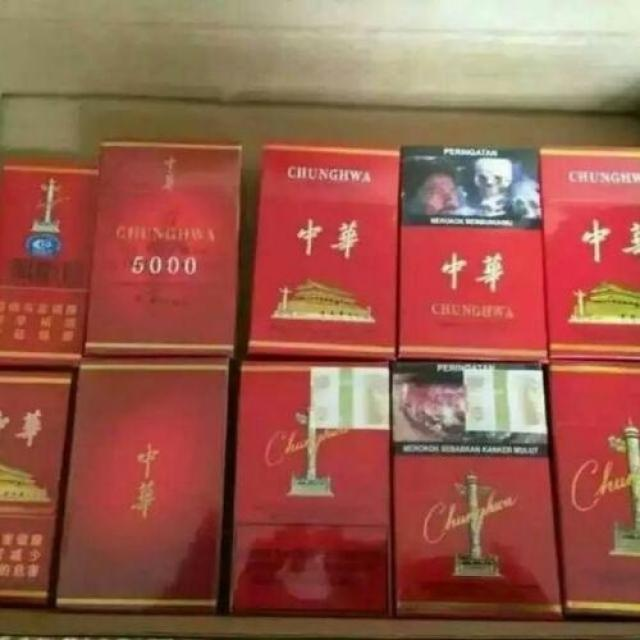box: (392, 362, 567, 622), (56, 358, 230, 614), (230, 358, 398, 620), (82, 141, 244, 360), (250, 143, 401, 362), (401, 146, 550, 364), (548, 360, 639, 621), (539, 146, 639, 362), (0, 156, 99, 367), (0, 370, 73, 607)
